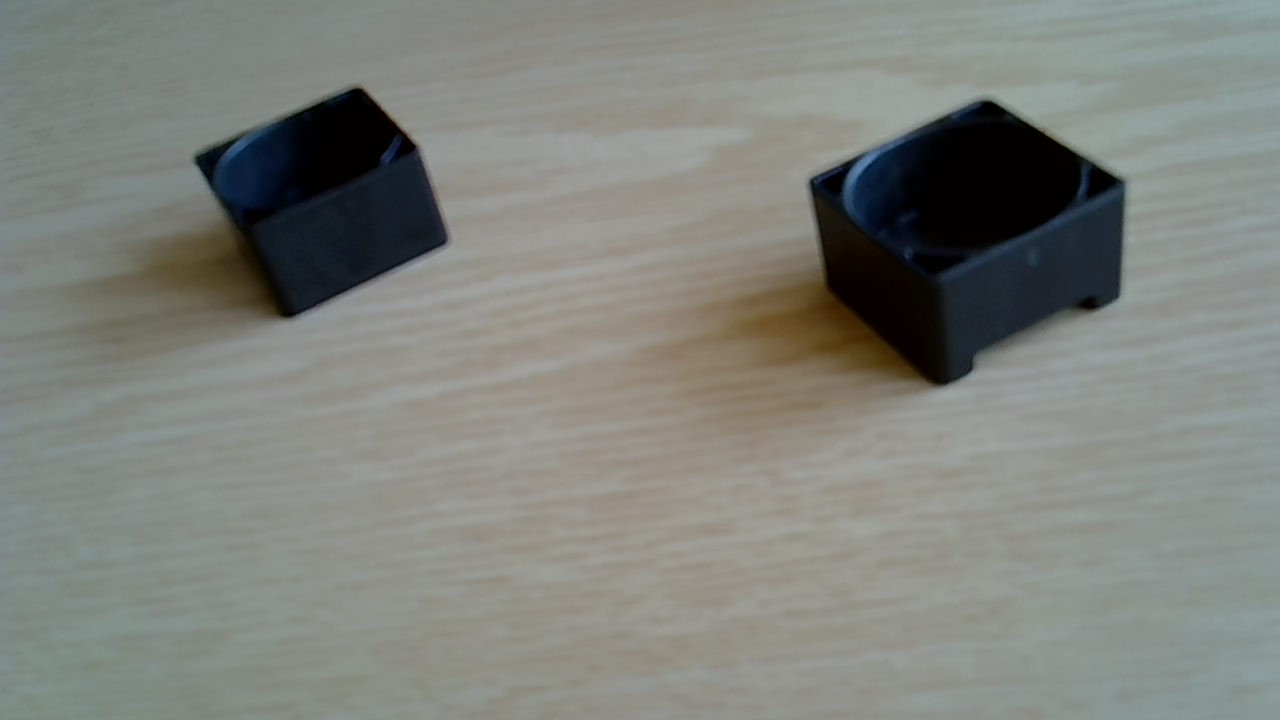Behaelter: (805, 98, 1130, 389), (195, 86, 451, 317)
